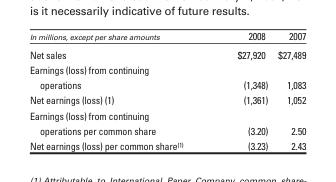table: (28, 28, 305, 151)
table column: (28, 28, 209, 151), (209, 28, 272, 151), (272, 28, 305, 151)
table column header: (28, 28, 305, 44)
table row: (28, 61, 305, 92), (28, 107, 305, 137), (28, 44, 305, 61), (28, 28, 305, 44), (28, 92, 305, 107), (28, 137, 305, 151)
